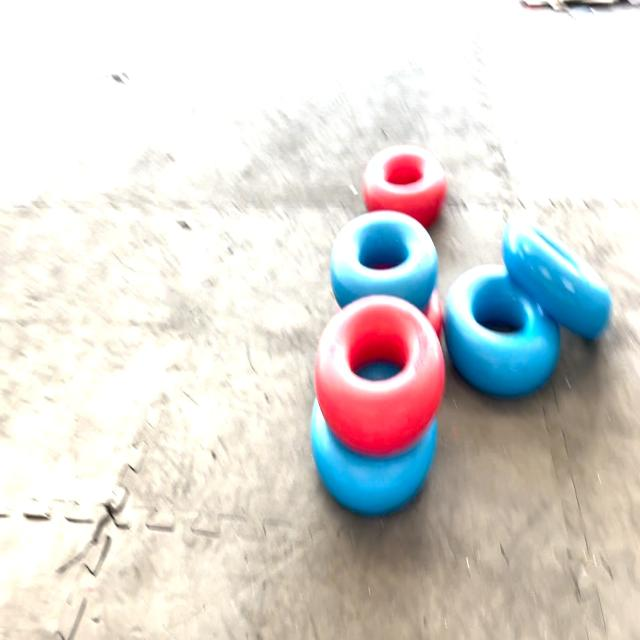Blue-Ring: (444, 264, 560, 398), (311, 400, 438, 516), (502, 218, 612, 338), (330, 211, 438, 309)
Red-Ring: (315, 296, 445, 456), (362, 144, 448, 227)
